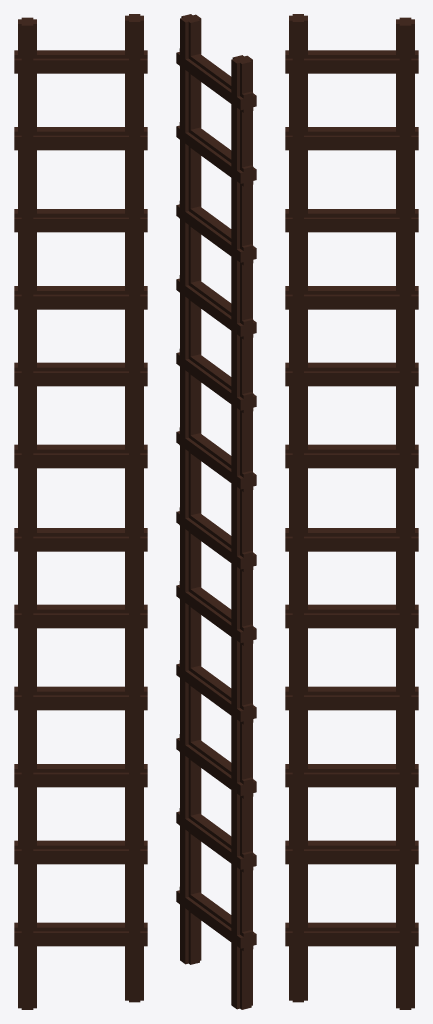
The model's file is ropeLadderHigh.glb.
3 renders of one model, left to right at view 1: azimuth 90°, elevation 25°; view 2: azimuth 210°, elevation 25°; view 3: azimuth 270°, elevation 25°, orthographic. The views are drawn at different scales.
Visible parts, largest first — view 1: Cylinder.015, Cylinder.016, Cylinder.005, Cylinder.010, Cylinder.001, Cylinder.006, Cylinder, Cylinder.011, Cylinder.008, Cylinder.004, Cylinder.014, Cylinder.009 (+8 smaller); view 2: Cylinder.015, Cylinder.001, Cylinder, Cylinder.016, Cylinder.010, Cylinder.011, Cylinder.005, Cylinder.006, Cylinder.007, Cylinder.009, Cylinder.019, Cylinder.014 (+8 smaller); view 3: Cylinder.015, Cylinder.016, Cylinder.005, Cylinder.001, Cylinder.010, Cylinder, Cylinder.006, Cylinder.011, Cylinder.008, Cylinder.004, Cylinder.014, Cylinder.009 (+8 smaller).
Boxes of the visible parts, x1,y1,x2,y2 form: Cylinder.015: [18, 17, 36, 296]; Cylinder.016: [125, 14, 143, 288]; Cylinder.005: [18, 503, 36, 773]; Cylinder.010: [18, 260, 36, 530]; Cylinder.001: [125, 736, 143, 1002]; Cylinder.006: [125, 498, 143, 764]; Cylinder: [18, 738, 36, 1009]; Cylinder.011: [125, 256, 143, 499]; Cylinder.008: [14, 604, 147, 628]; Cylinder.004: [14, 922, 147, 946]; Cylinder.014: [14, 444, 147, 468]; Cylinder.009: [14, 686, 147, 710]; Cylinder.015: [231, 55, 252, 322]; Cylinder.001: [180, 704, 201, 964]; Cylinder: [231, 745, 252, 1009]; Cylinder.016: [180, 14, 201, 278]; Cylinder.010: [231, 286, 252, 550]; Cylinder.011: [180, 245, 201, 504]; Cylinder.005: [231, 519, 252, 782]; Cylinder.006: [180, 478, 201, 736]; Cylinder.007: [176, 507, 256, 572]; Cylinder.009: [176, 660, 256, 724]; Cylinder.019: [176, 201, 256, 265]; Cylinder.014: [176, 427, 256, 492]; Cylinder.015: [396, 17, 414, 296]; Cylinder.016: [289, 14, 307, 288]; Cylinder.005: [396, 503, 414, 773]; Cylinder.001: [289, 736, 307, 1002]; Cylinder.010: [396, 260, 414, 530]; Cylinder: [396, 738, 414, 1009]; Cylinder.006: [289, 498, 307, 764]; Cylinder.011: [289, 256, 307, 499]; Cylinder.008: [285, 604, 418, 628]; Cylinder.004: [285, 922, 418, 946]; Cylinder.014: [285, 444, 418, 468]; Cylinder.009: [285, 686, 418, 710].
Bounding box in the file's own units: 0.0557 × 3.16 × 0.3866.
